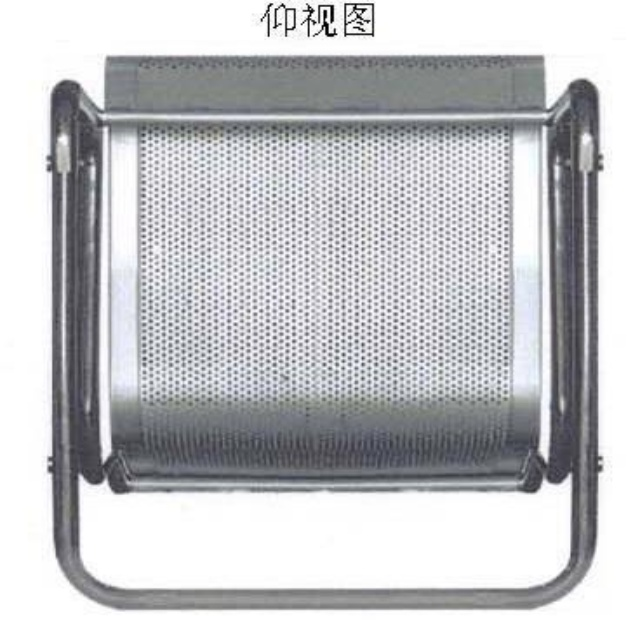obstacle: (50, 55, 597, 607)
